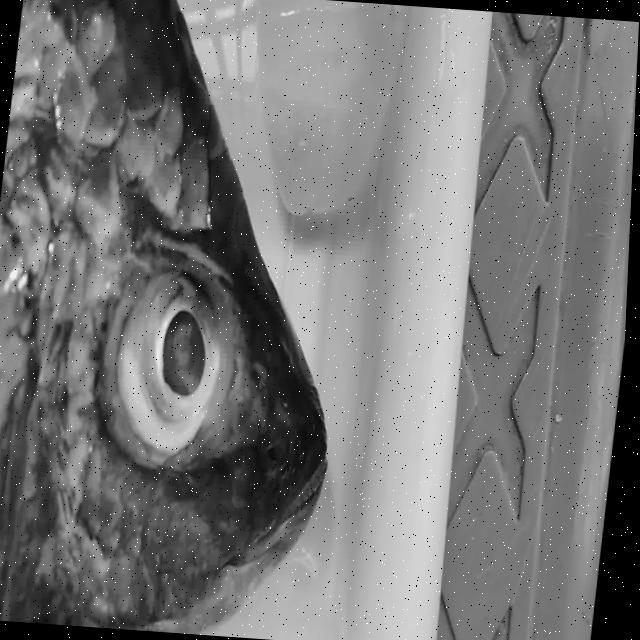Fresh: (94, 197, 262, 508)
